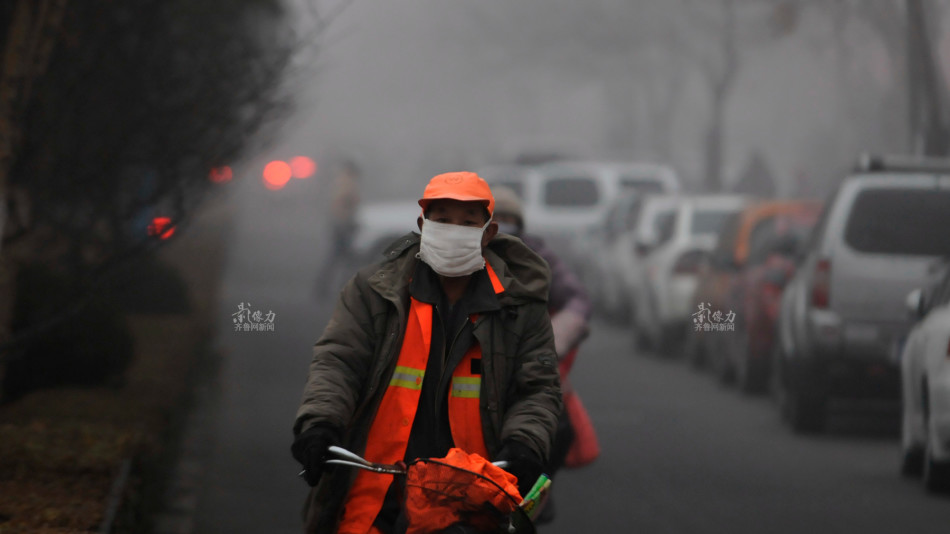face_mask: (423, 200, 482, 279)
